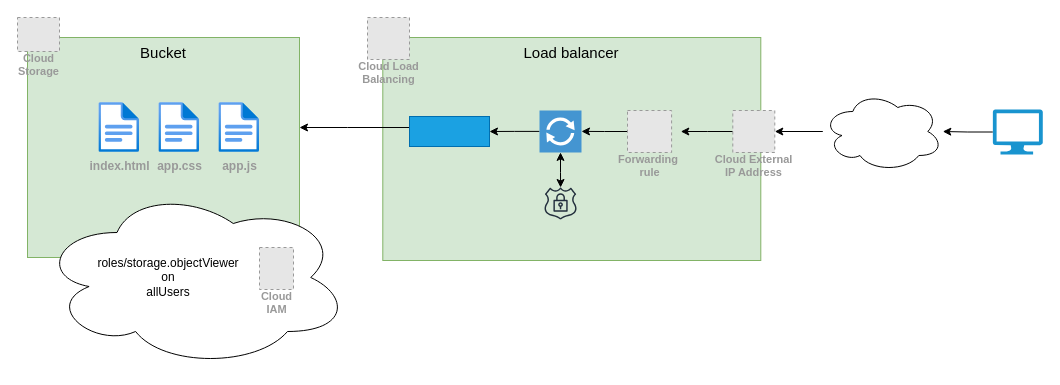
Image size: 1060x385. Some labels were removed from this diagram. Grey dashed boxes stand in for pictures. The shapes that lost their labels are listed below. From the top down, each one's centre as x and y in pixels, then its label:
At point 449,131: "URL MAP".
At point 560,131: "Target Proxy".
At point 882,131: "Internet".
At point 560,203: "SSL Certifcate".
